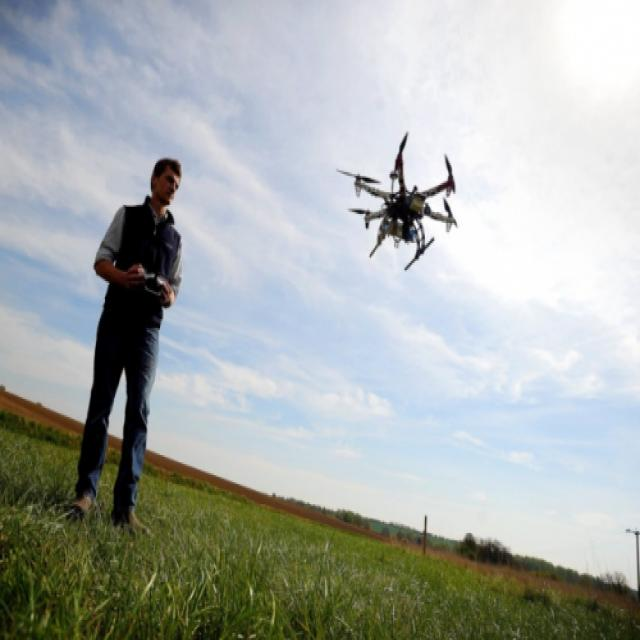drones: (330, 119, 465, 275)
